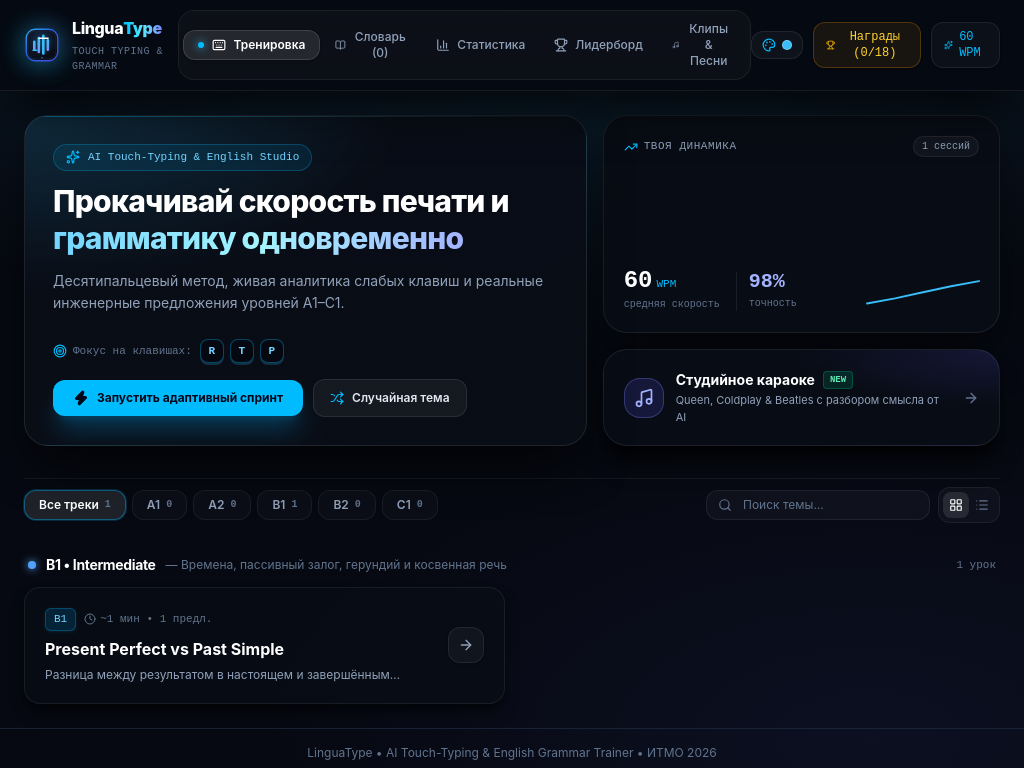
Criterion 11: Full End-to-End User Scenario › completes the full flow: select topic -> type sentence -> view victory scoreboard
User clicks on the topic card to start practice
Step 1. Click the element with test id "topic-card-pres-perf" → (264, 645), box [24,587,505,704]
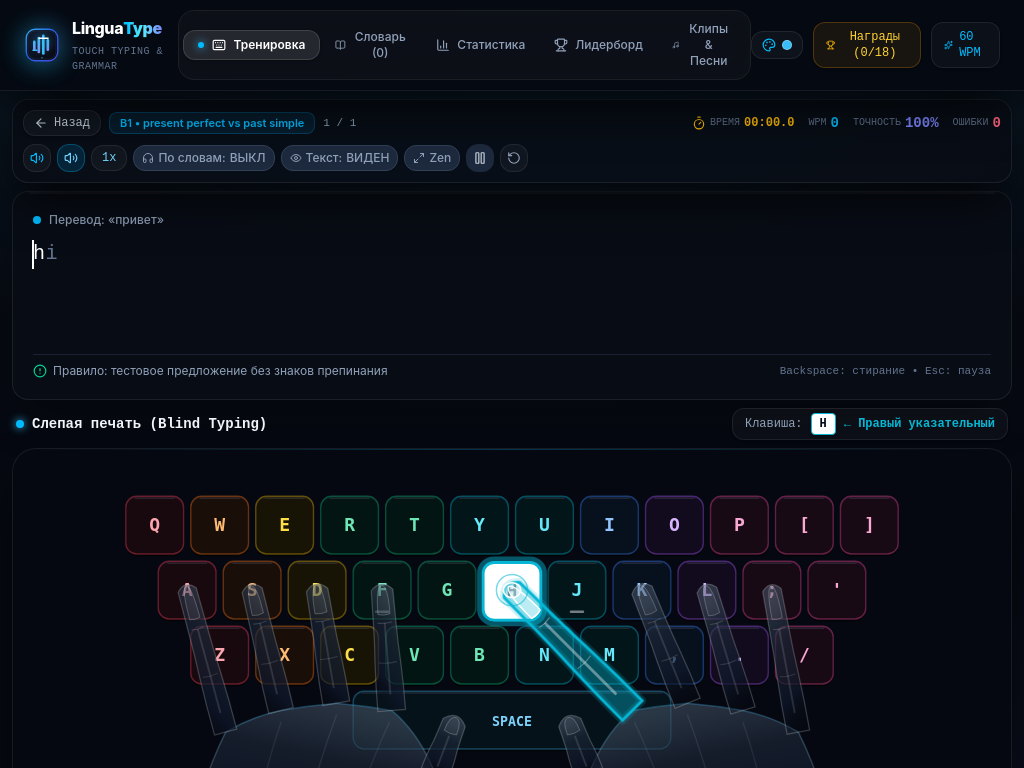
Check: the text "Перевод: «привет»" is shown, box [49,212,164,228]
Check: the element with test id "metric-stopwatch" is shown, box [692,115,794,131]
Check: the element with test id "typing-text-display" is shown, box [32,240,58,269]
User types the sentence: 'h', 'i'
Step 2. Press h
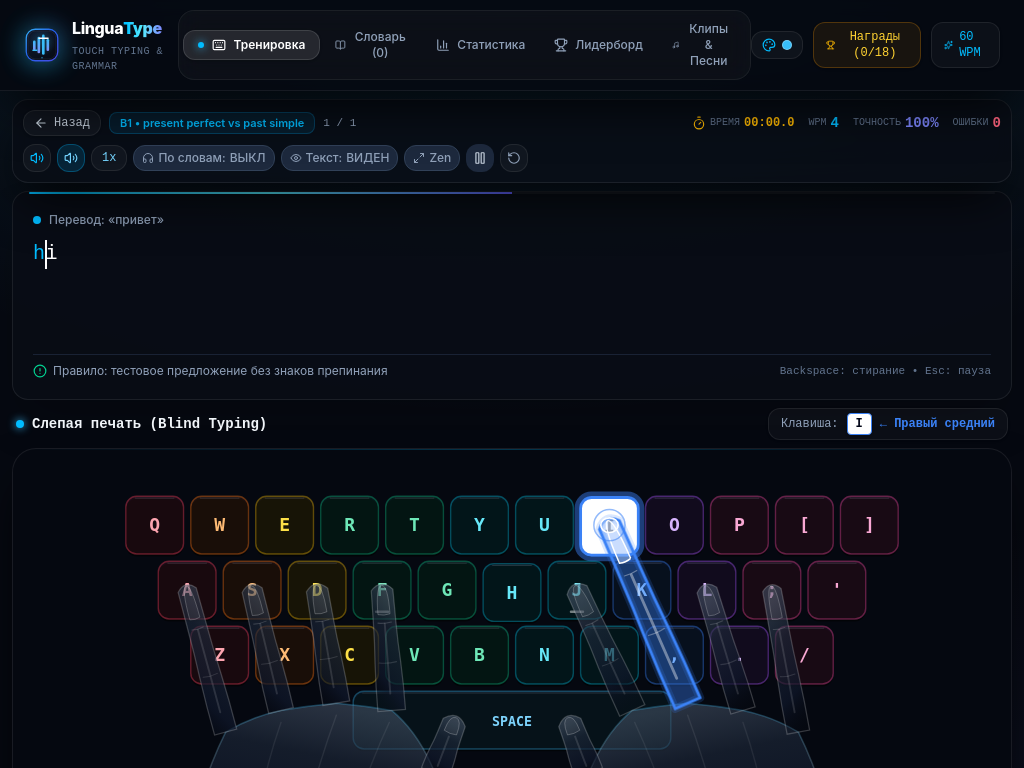
Step 3. Press i
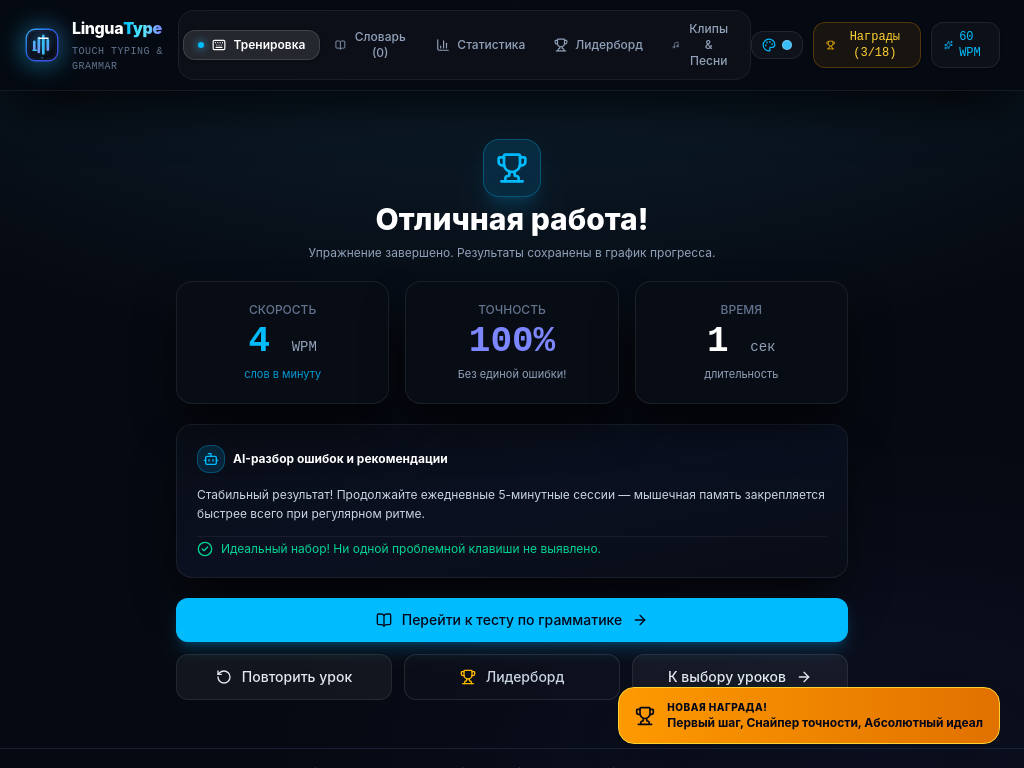
Check: the text "100%" is shown, box [469,321,555,362]
Check: the element with test id "success-result" is shown, box [176,139,848,700]
Check: the element with test id "result-wpm" is shown, box [248,321,317,362]
User proceeds from stats scoreboard to the grammar quiz checkpoint!
Step 4. Click the button with test id "start-quiz-btn" → (512, 620), box [176,598,848,642]
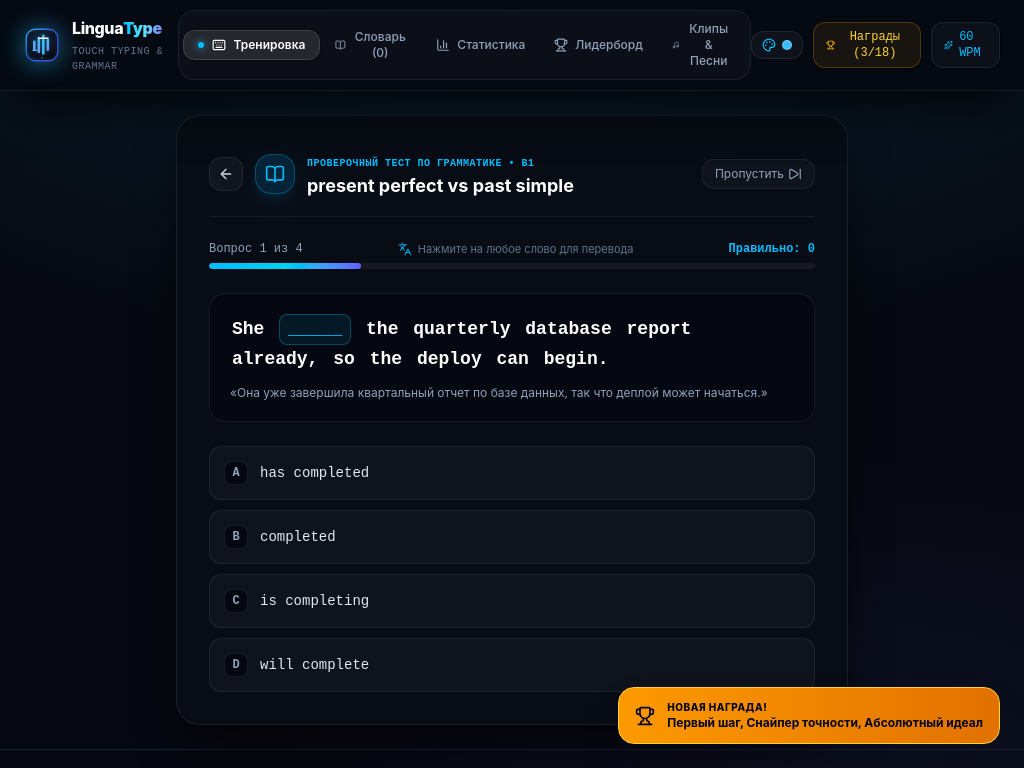
Check: the element with test id "topic-quiz-view" is shown, box [176,115,848,724]
Click skip to return to topic selector
Step 5. Click the button with test id "skip-quiz-btn" → (758, 174), box [702,159,815,189]
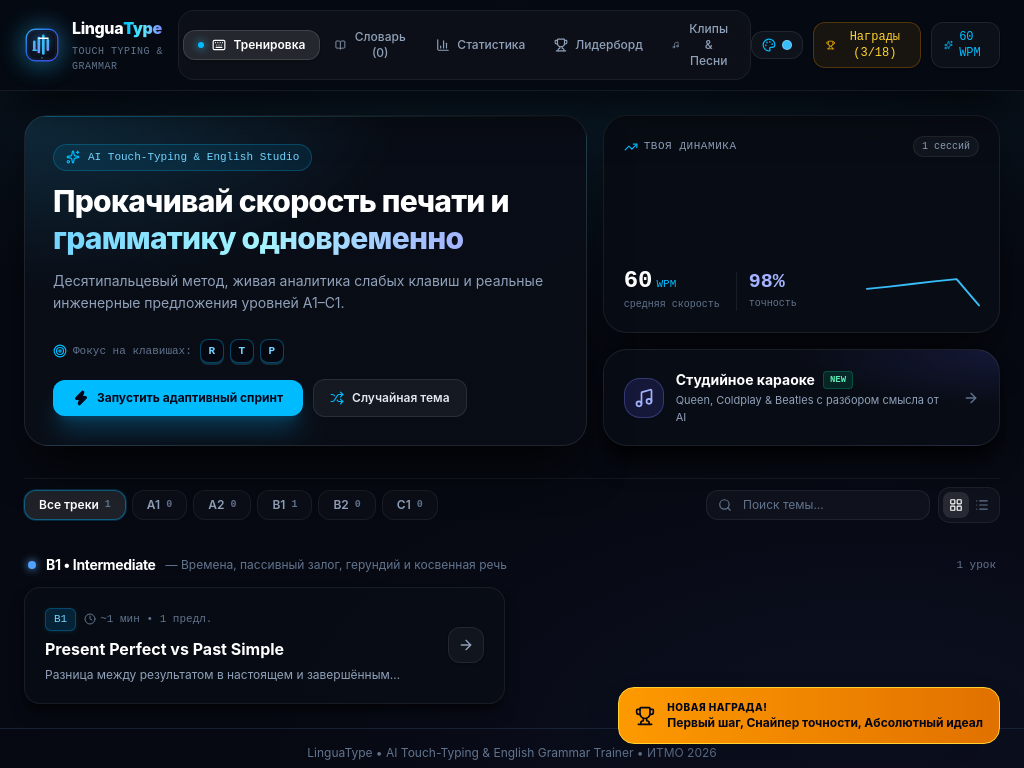
Check: the element with test id "topic-selector" is shown
